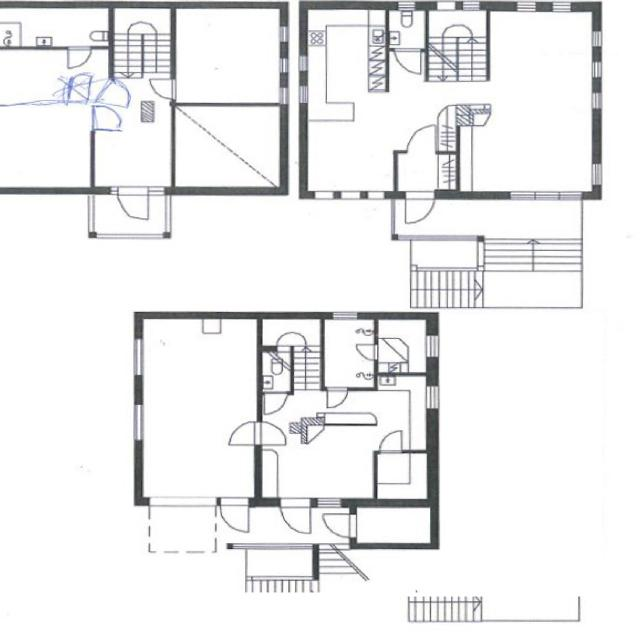door: (94, 80, 135, 114), (406, 190, 435, 225), (119, 190, 148, 223), (408, 126, 436, 154), (394, 48, 420, 74), (91, 109, 119, 129), (68, 46, 91, 70), (149, 80, 176, 100)
